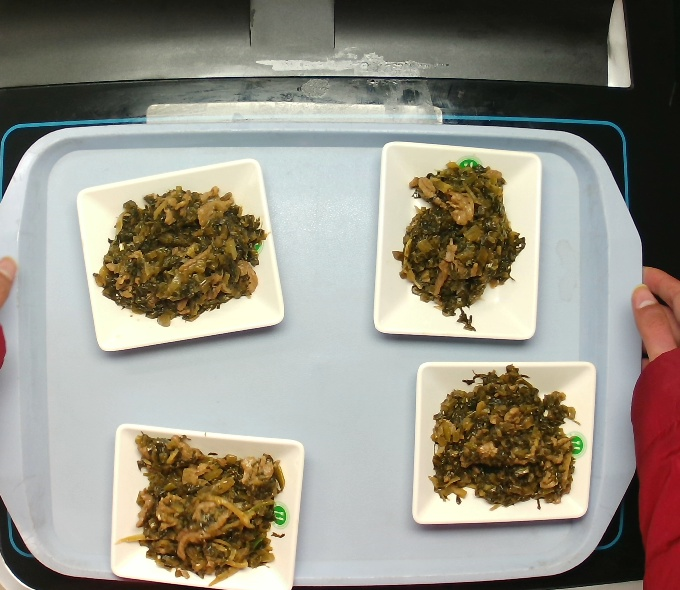wcq-XueCaiRouSi: (383, 150, 540, 337), (93, 180, 268, 335), (117, 438, 292, 573), (423, 371, 581, 509)
